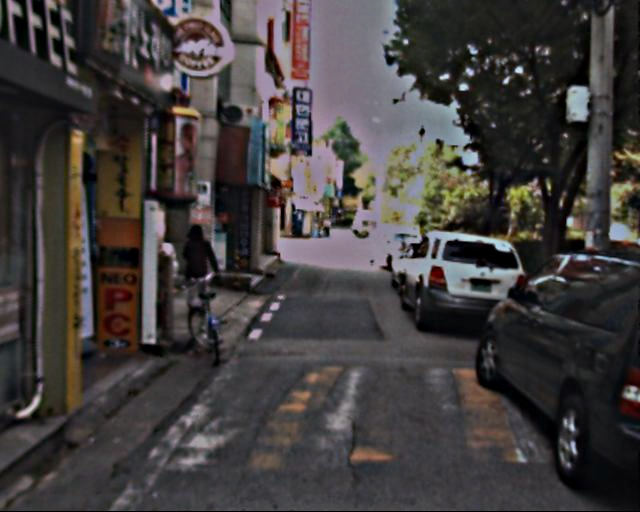person: (181, 221, 220, 317)
